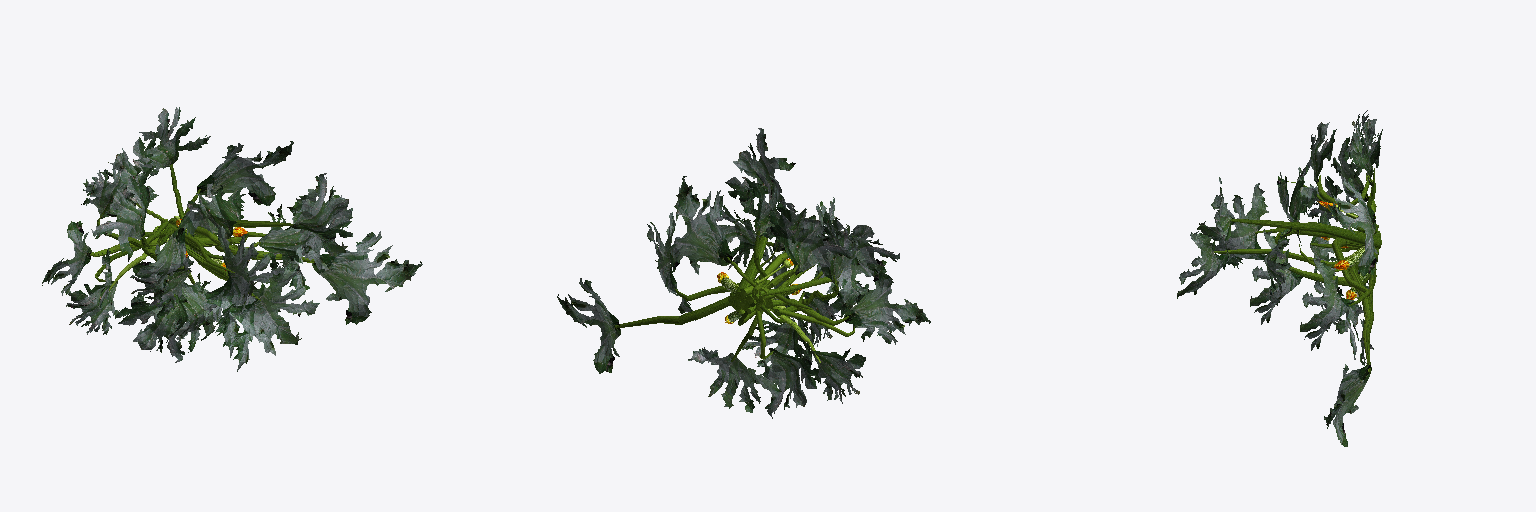
3 renders of one model, left to right at view 1: azimuth 30°, elevation 25°; view 2: azimuth 150°, elevation 25°; view 3: azimuth 270°, elevation 25°, orthographic.
Parts seen in each view (by area): view 1: plant_Cylinder.069; view 2: plant_Cylinder.069; view 3: plant_Cylinder.069.
Part boxes in pixels (x1,y1,x2,y2): plant_Cylinder.069: (42, 107, 422, 371); plant_Cylinder.069: (557, 128, 930, 418); plant_Cylinder.069: (1177, 110, 1382, 446).
Bounding box in the file's own units: 1.33 × 0.8473 × 0.6295.
Materials: 4 (4 with a texture image).